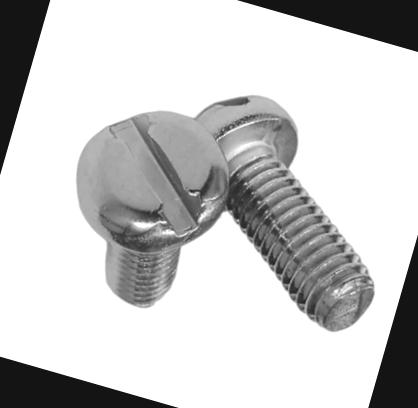screw: (58, 88, 245, 268)
